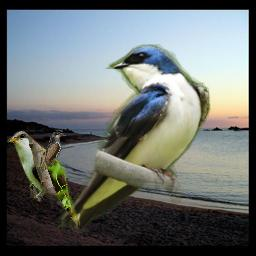Cuckoo: (5, 131, 84, 226), (40, 132, 72, 172)
Swallow: (58, 44, 211, 231)
